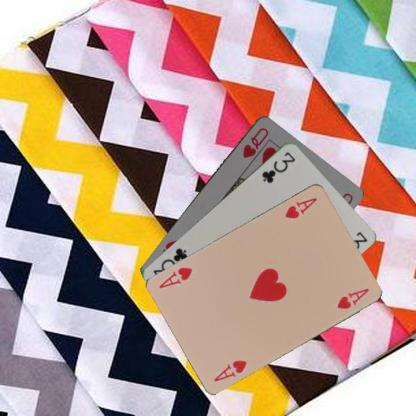3c: (259, 148, 297, 184)
Ah: (212, 356, 249, 382), (282, 194, 318, 219)
Qh: (240, 124, 270, 161)
